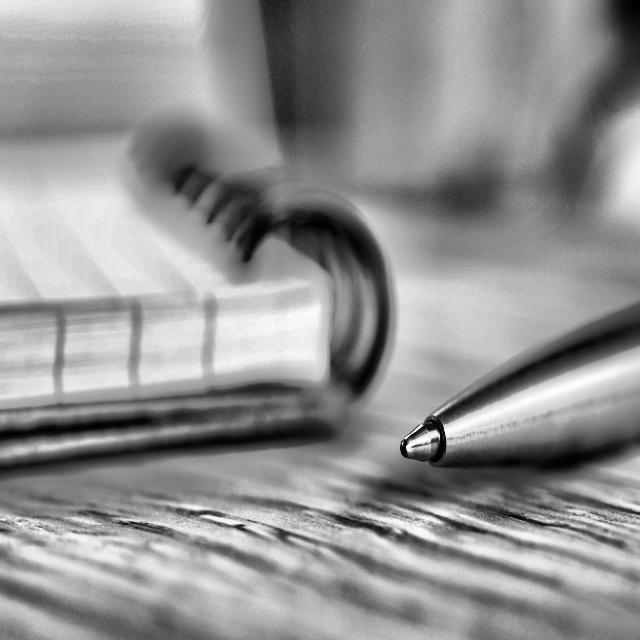Pen: (398, 310, 640, 479)
